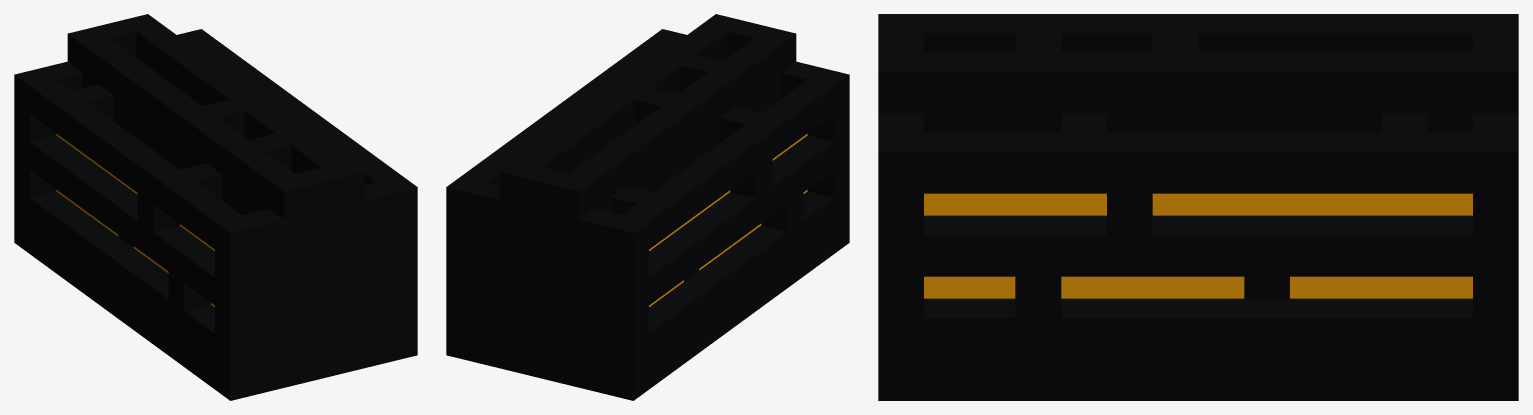
Rendered from ExtenderSmall1.FBX.
The picture shows the model from 3 angles, left to right: view 1: azimuth 30°, elevation 25°; view 2: azimuth 150°, elevation 25°; view 3: azimuth 270°, elevation 25°; orthographic projection. The views are drawn at different scales.
Parts seen in each view (by area): view 1: ExtenderSmall1; view 2: ExtenderSmall1; view 3: ExtenderSmall1.
Part boxes in pixels (bbox=[...]): ExtenderSmall1: bbox=[14, 14, 417, 400]; ExtenderSmall1: bbox=[446, 14, 849, 400]; ExtenderSmall1: bbox=[878, 14, 1518, 400].
Size of the model in its own units: 7 by 14 by 7.
